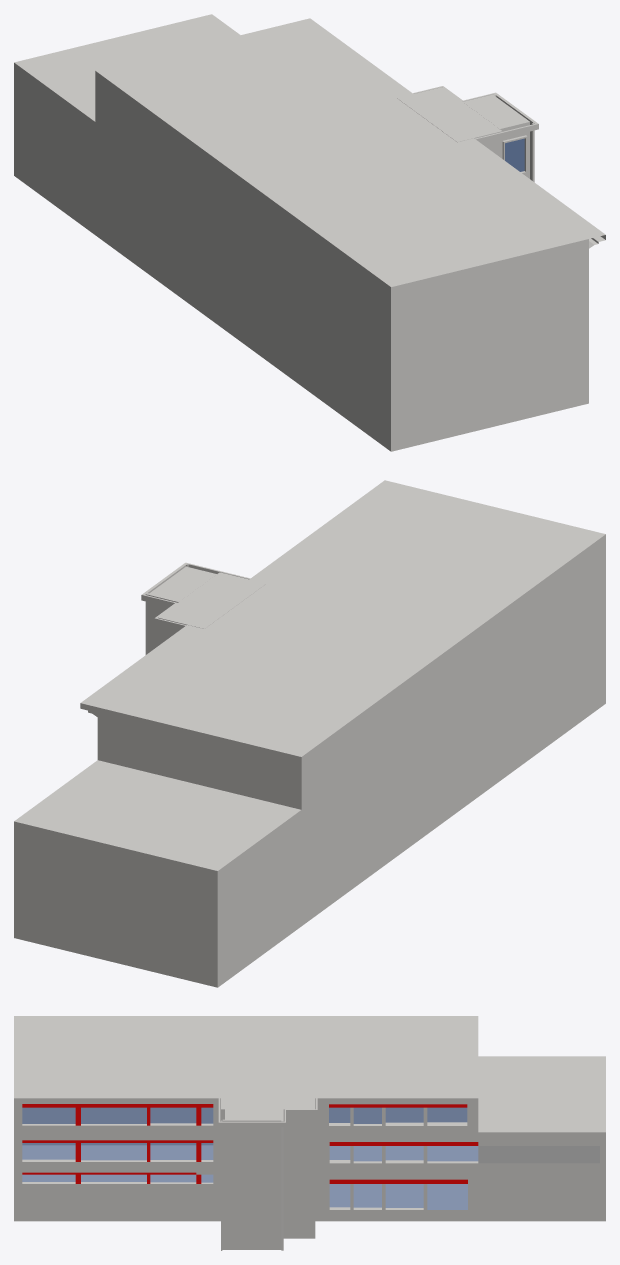
The picture shows the model from 3 angles, top to bottom: view 1: azimuth 30°, elevation 25°; view 2: azimuth 150°, elevation 25°; view 3: azimuth 270°, elevation 25°; orthographic projection. The views are drawn at different scales.
Parts seen in each view (by area): view 1: Mesh1 Model; view 2: Mesh1 Model; view 3: Mesh1 Model.
Boxes of the visible parts, left/top/right/bottom form: Mesh1 Model: left=14, top=14, right=605, bottom=451; Mesh1 Model: left=14, top=480, right=605, bottom=987; Mesh1 Model: left=14, top=1016, right=605, bottom=1250.
Bounding box in the file's own units: 44.54 × 25.23 × 105.
